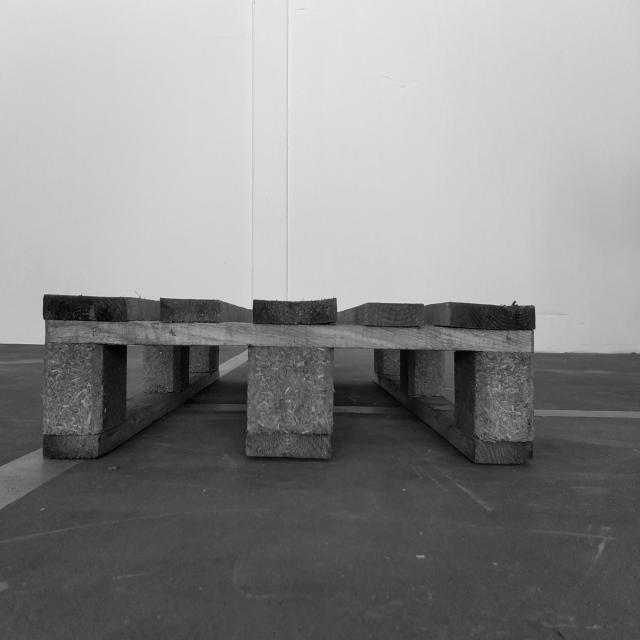block: (243, 299, 338, 465), (459, 300, 538, 465), (41, 292, 106, 469)
front: (39, 291, 539, 469)
